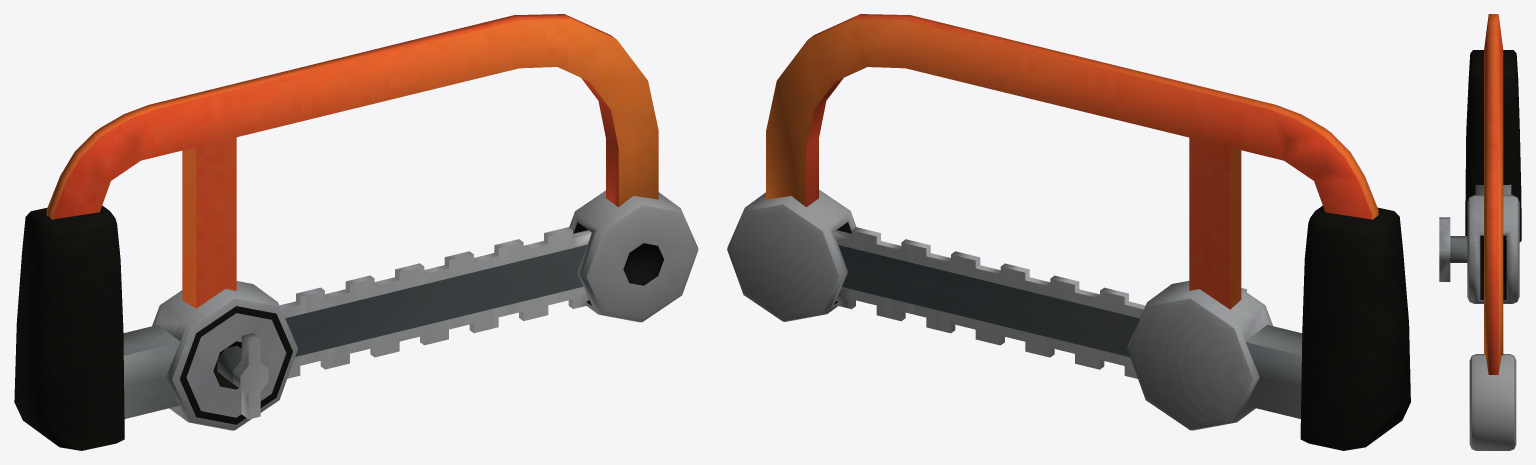
The model's file is hack_saw.fbx.
The picture shows the model from 3 angles, left to right: view 1: azimuth 30°, elevation 25°; view 2: azimuth 150°, elevation 25°; view 3: azimuth 270°, elevation 25°; orthographic projection. The views are drawn at different scales.
Visible parts, largest first — view 1: hacksaw; view 2: hacksaw; view 3: hacksaw.
Boxes of the visible parts, left/top/right/bottom form: hacksaw: left=14, top=14, right=698, bottom=450; hacksaw: left=727, top=14, right=1410, bottom=450; hacksaw: left=1439, top=14, right=1521, bottom=450.
Bounding box in the file's own units: 51.8 × 25.06 × 7.36.
